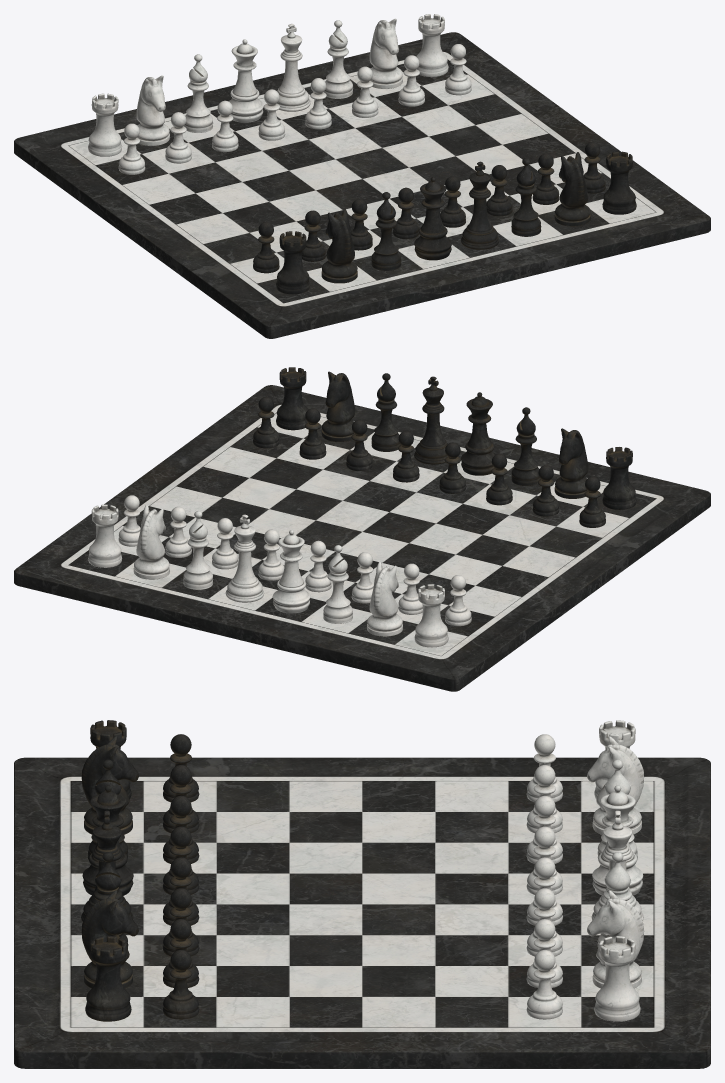
Rendered from chess_set_2k.gltf.
3 renders of one model, top to bottom at view 1: azimuth 30°, elevation 25°; view 2: azimuth 150°, elevation 25°; view 3: azimuth 270°, elevation 25°, orthographic. The views are drawn at different scales.
Visible parts, largest first — view 1: board, piece_queen_black, piece_knight_black_01, piece_knight_black_02, piece_queen_white, piece_knight_white_02, piece_knight_white_01, piece_king_black, piece_king_white, piece_rook_black_01, piece_rook_black_02, piece_rook_white_02 (+21 smaller); view 2: board, piece_queen_white, piece_knight_white_01, piece_knight_white_02, piece_queen_black, piece_knight_black_01, piece_king_white, piece_knight_black_02, piece_king_black, piece_rook_white_02, piece_rook_black_01, piece_rook_white_01 (+21 smaller); view 3: board, piece_rook_black_02, piece_rook_white_01, piece_knight_black_02, piece_knight_white_01, piece_knight_black_01, piece_knight_white_02, piece_queen_white, piece_queen_black, piece_pawn_white_01, piece_pawn_black_08, piece_king_black (+21 smaller).
Part boxes in pixels (box(x1,y1,x2,y2)): board: box(14, 32, 710, 338); piece_queen_black: box(414, 177, 451, 260); piece_knight_black_01: box(321, 209, 357, 283); piece_knight_black_02: box(554, 152, 590, 226); piece_queen_white: box(228, 39, 263, 122); piece_knight_white_02: box(136, 75, 169, 145); piece_knight_white_01: box(369, 18, 402, 88); piece_king_black: box(461, 161, 499, 249); piece_king_white: box(277, 23, 310, 111); piece_rook_black_01: box(276, 231, 310, 294); piece_rook_black_02: box(602, 151, 636, 214); piece_rook_white_02: box(88, 93, 122, 156); board: box(14, 385, 710, 691); piece_queen_white: box(272, 530, 310, 613); piece_knight_white_01: box(133, 505, 169, 579); piece_knight_white_02: box(367, 562, 402, 636); piece_queen_black: box(461, 392, 495, 475); piece_knight_black_01: box(554, 428, 588, 498); piece_king_white: box(225, 514, 264, 602); piece_knight_black_02: box(321, 371, 354, 442); piece_king_black: box(414, 376, 447, 464); piece_rook_white_02: box(414, 584, 448, 647); piece_rook_black_01: box(602, 447, 636, 509); piece_rook_white_01: box(88, 504, 122, 567); board: box(14, 757, 710, 1068); piece_rook_black_02: box(85, 936, 131, 1021); piece_rook_white_01: box(594, 936, 640, 1021); piece_knight_black_02: box(81, 890, 138, 988); piece_knight_white_01: box(587, 890, 644, 988); piece_knight_black_01: box(81, 736, 138, 834); piece_knight_white_02: box(587, 736, 644, 834); piece_queen_white: box(592, 785, 643, 895); piece_queen_black: box(82, 785, 133, 895); piece_pawn_white_01: box(526, 950, 562, 1019); piece_pawn_black_08: box(163, 950, 199, 1019); piece_king_black: box(81, 810, 133, 921).
Bounding box in the file's own units: 0.5532 × 0.1124 × 0.5532.
Materials: 3 (3 with a texture image).
